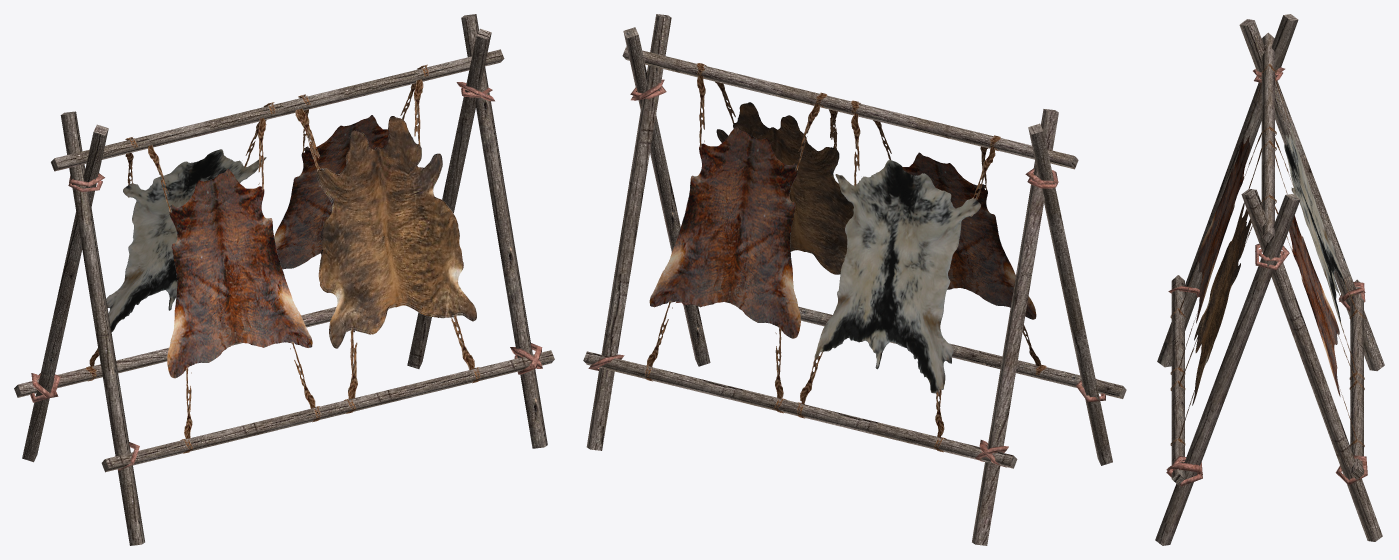
The model's file is hide_stretcher.FBX.
The picture shows the model from 3 angles, left to right: view 1: azimuth 30°, elevation 25°; view 2: azimuth 150°, elevation 25°; view 3: azimuth 270°, elevation 25°; orthographic projection. The views are drawn at different scales.
Visible parts, largest first — view 1: hide_stretcher; view 2: hide_stretcher; view 3: hide_stretcher.
Part boxes in pixels (bbox=[...]): hide_stretcher: bbox=[14, 14, 554, 545]; hide_stretcher: bbox=[583, 14, 1126, 545]; hide_stretcher: bbox=[1155, 14, 1384, 545].
Size of the model in its own units: 26.19 by 21.54 by 12.78.
3 materials, 3 textured.
